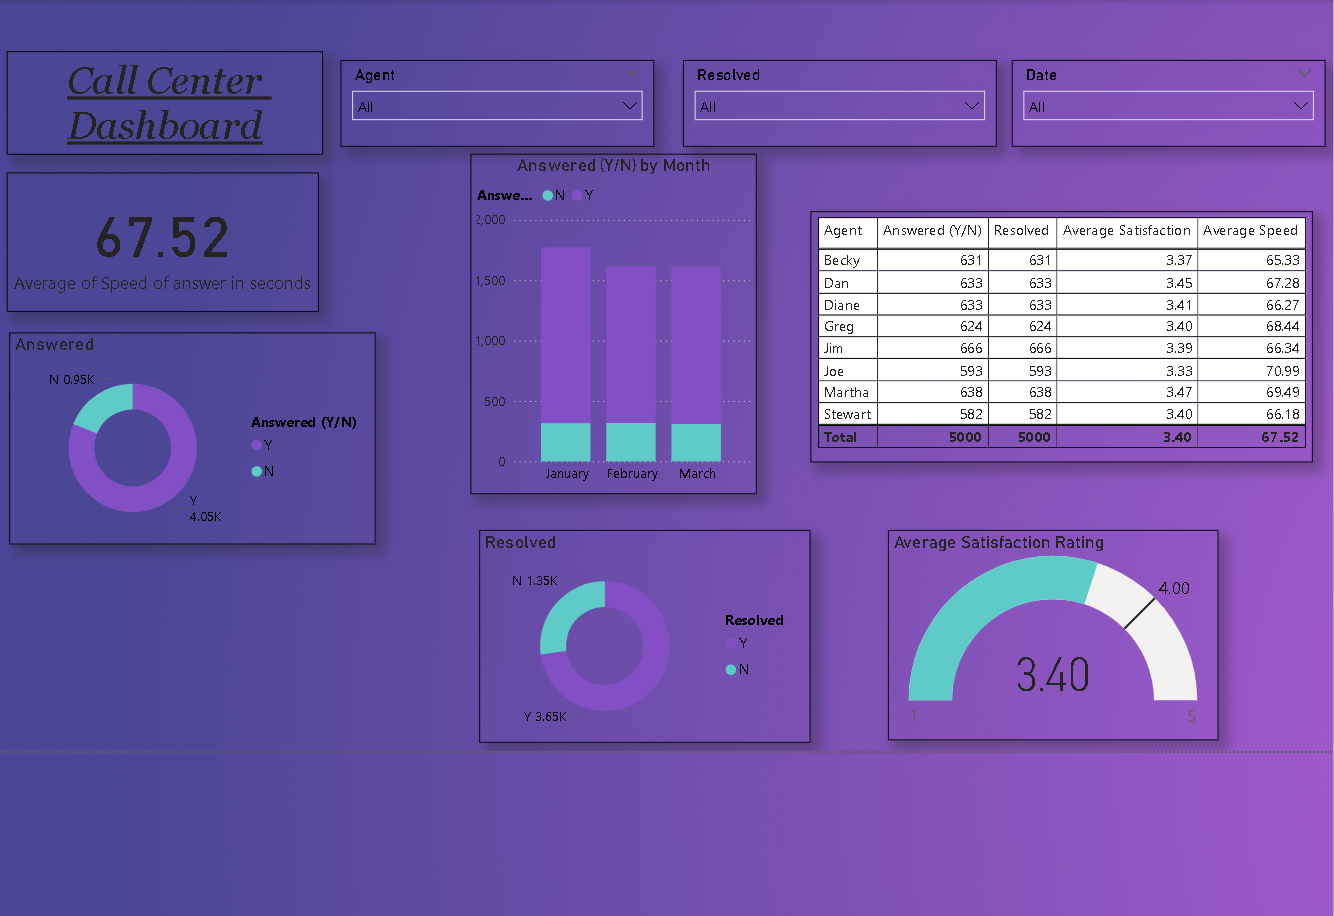

What the dashboard file says about the page in this screenshot:
{"tool":"powerbi","page":{"name":"Page 1","canvas":[1280,720],"ordinal":0},"visuals":[{"type":"card","fields":{"Values":["Sheet1.Speed of answer in seconds"]},"box":[8.2,165,299.3,133.2],"z":0},{"type":"slicer","fields":{"Values":["Sheet1.Agent"]},"box":[328.2,57,300.7,83.5],"z":1000},{"type":"slicer","fields":{"Values":["Sheet1.Date"]},"box":[971.7,57,300.7,83.5],"z":2000},{"type":"slicer","fields":{"Values":["Sheet1.Resolved"]},"box":[657.3,57,300.7,83.5],"z":3000},{"type":"donutChart","title":"Answered","fields":{"Category":["Sheet1.Answered (Y/N)"],"Y":["Sheet1.Answered (Y/N)"]},"box":[11.3,318.8,351.6,202.9],"z":4000},{"type":"donutChart","title":"Resolved","fields":{"Y":["Sheet1.Answered (Y/N)"],"Category":["Sheet1.Resolved"]},"box":[461.2,508.4,317.7,204],"z":5000},{"type":"gauge","title":"Average Satisfaction Rating","fields":{"Y":["Sheet1.Satisfaction rating"],"MaxValue":["Sum(Sheet1.Satisfaction rating)1"],"MinValue":["Sum(Sheet1.Satisfaction rating)2"]},"box":[852.8,508.4,317,201.9],"z":6000},{"type":"columnChart","title":" Answered (Y/N) by Month ","fields":{"Category":["Sheet1.Date.Variation.Date Hierarchy.Month"],"Y":["Sheet1.Answered (Y/N)"],"Series":["Sheet1.Answered (Y/N)"]},"box":[453,147.2,274.1,326.1],"z":6001},{"type":"tableEx","fields":{"Values":["Sheet1.Agent","Sheet1.Answered (Y/N)","Sheet1.Resolved","Sheet1.Satisfaction rating","Sheet1.Speed of answer in seconds"]},"box":[779,202.9,481.7,240.9],"z":6002},{"type":"textbox","box":[8.2,49.2,303.4,99.4],"z":6003}]}

Visuals, with their boxes on the page's 1280x720 design canvas (x1, y1, x2, y2). These are canvas units, not pixel positions in the 1334x916 screenshot, which may show the page scaled, cropped or inside an application window:
card - Sheet1.Speed of answer in seconds: select_region(8, 165, 308, 298)
slicer - Sheet1.Agent: select_region(328, 57, 629, 140)
slicer - Sheet1.Date: select_region(972, 57, 1272, 140)
slicer - Sheet1.Resolved: select_region(657, 57, 958, 140)
"Answered" donutChart: select_region(11, 319, 363, 522)
"Resolved" donutChart: select_region(461, 508, 779, 712)
"Average Satisfaction Rating" gauge: select_region(853, 508, 1170, 710)
" Answered (Y/N) by Month " columnChart: select_region(453, 147, 727, 473)
tableEx - Sheet1.Agent x Sheet1.Answered (Y/N): select_region(779, 203, 1261, 444)
textbox: select_region(8, 49, 312, 149)
